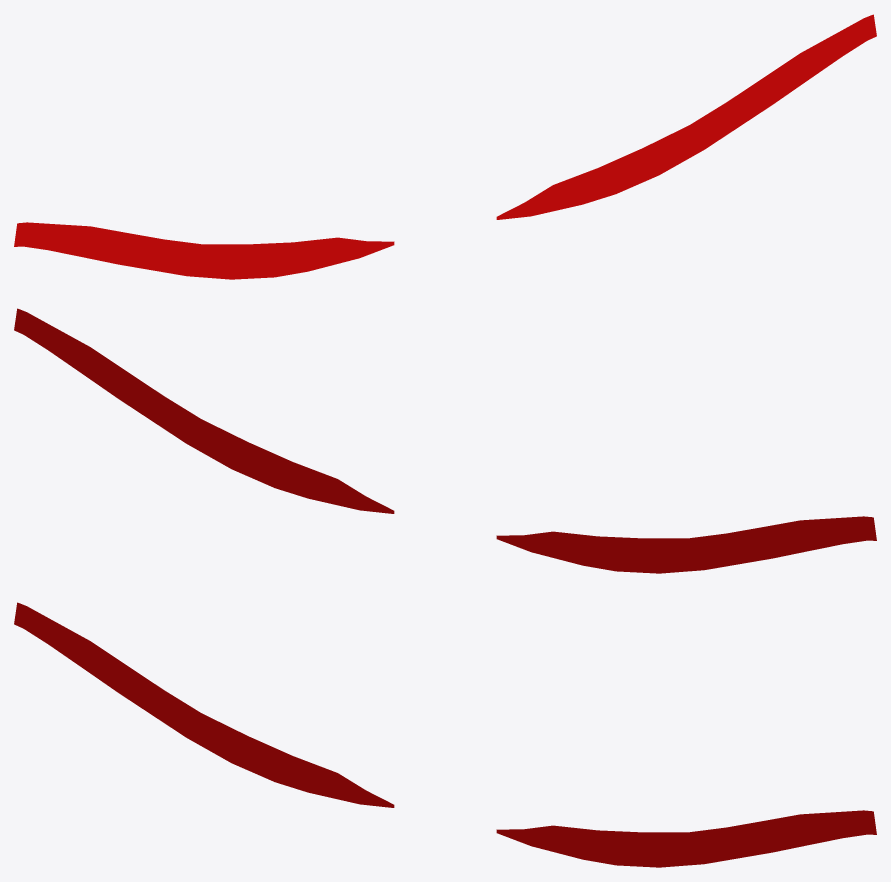
Rendered from frame126.fbx.
3 renders of one model, top to bottom at view 1: azimuth 30°, elevation 25°; view 2: azimuth 150°, elevation 25°; view 3: azimuth 330°, elevation 25°, orthographic.
Parts seen in each view (by area): view 1: MaterialLayer; view 2: MaterialLayer; view 3: MaterialLayer.
Part boxes in pixels (x1,y1,x2,y2): MaterialLayer: (14, 14, 876, 279); MaterialLayer: (14, 308, 876, 573); MaterialLayer: (14, 602, 876, 867).
Bounding box in the file's own units: 1421 × 188 × 0.
